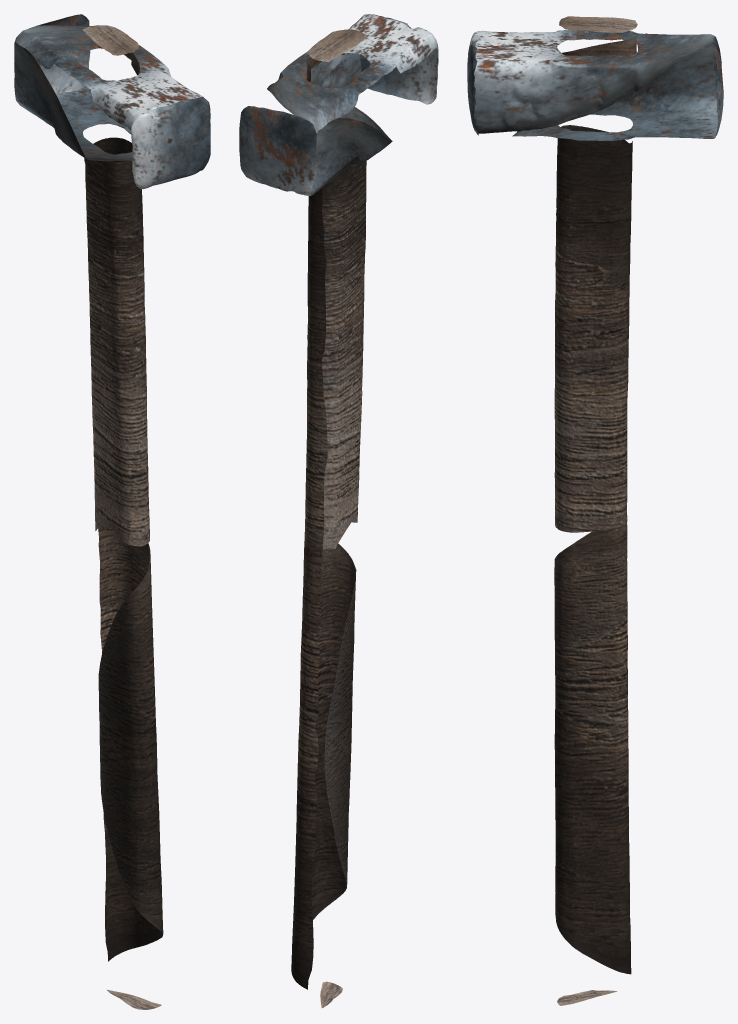
Rendered from SledgeHammer.fbx.
3 renders of one model, left to right at view 1: azimuth 30°, elevation 25°; view 2: azimuth 150°, elevation 25°; view 3: azimuth 270°, elevation 25°, orthographic.
Parts seen in each view (by area): view 1: SledgeHammer_Body, SledgeHammer_Head; view 2: SledgeHammer_Body, SledgeHammer_Head; view 3: SledgeHammer_Body, SledgeHammer_Head.
Part boxes in pixels (x1,y1,x2,y2): SledgeHammer_Body: [82, 25, 163, 1009]; SledgeHammer_Head: [14, 14, 210, 189]; SledgeHammer_Body: [291, 29, 366, 1007]; SledgeHammer_Head: [239, 14, 438, 195]; SledgeHammer_Body: [554, 16, 637, 1005]; SledgeHammer_Head: [467, 30, 723, 140].
Bounding box in the file's own units: 5.47 × 59.94 × 14.37.
Materials: 2 (2 with a texture image).
